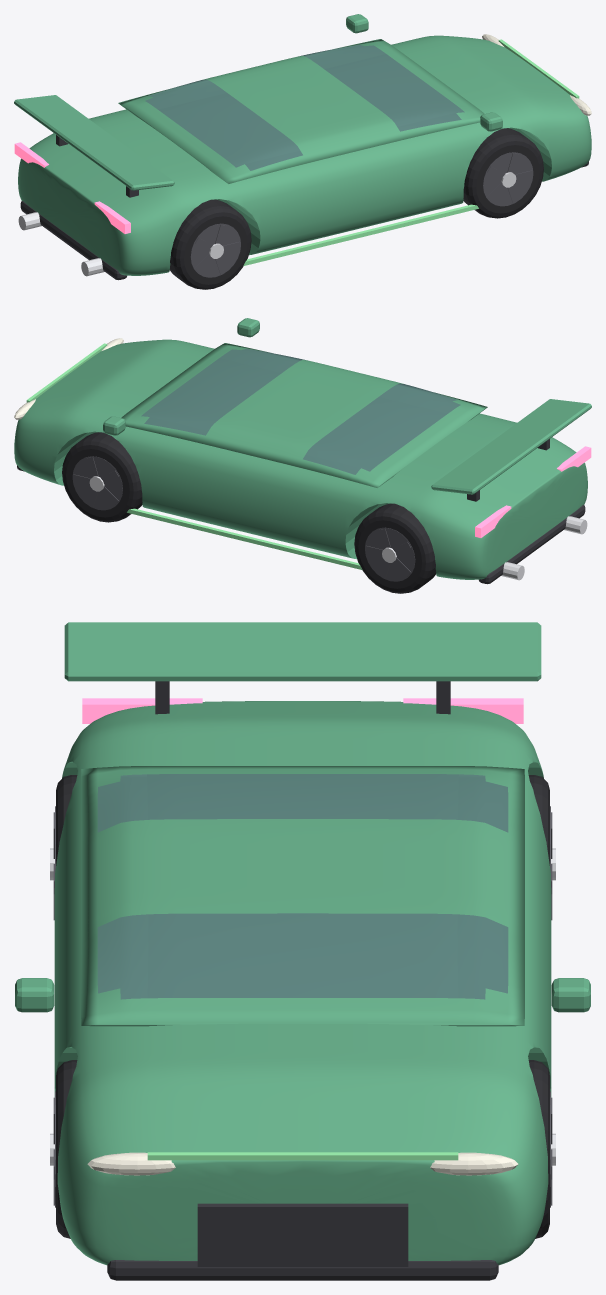
The model's file is apex_predator.fbx.
The picture shows the model from 3 angles, top to bottom: view 1: azimuth 30°, elevation 25°; view 2: azimuth 150°, elevation 25°; view 3: azimuth 270°, elevation 25°; orthographic projection. The views are drawn at different scales.
Visible parts, largest first — view 1: Body.014, Glass.014, Tire.014, Rim.014, Neon.003, Trim.014, Chrome.014, TailLight.014; view 2: Body.014, Glass.014, Tire.014, Rim.014, Neon.003, Trim.014, Chrome.014, TailLight.014; view 3: Body.014, Glass.014, Trim.014, Tire.014, HeadLight.014, Neon.003, TailLight.014, Rim.014.
Boxes of the visible parts, bbox=[...] form: Body.014: bbox=[14, 14, 591, 275]; Glass.014: bbox=[145, 45, 464, 170]; Tire.014: bbox=[170, 128, 543, 289]; Rim.014: bbox=[190, 152, 533, 277]; Neon.003: bbox=[243, 39, 579, 265]; Trim.014: bbox=[20, 135, 588, 280]; Chrome.014: bbox=[18, 172, 516, 276]; TailLight.014: bbox=[14, 142, 130, 233]; Body.014: bbox=[14, 318, 591, 579]; Glass.014: bbox=[141, 349, 460, 474]; Tire.014: bbox=[62, 432, 435, 593]; Rim.014: bbox=[72, 456, 415, 581]; Neon.003: bbox=[26, 343, 362, 569]; Trim.014: bbox=[17, 439, 585, 584]; Chrome.014: bbox=[89, 476, 587, 580]; TailLight.014: bbox=[475, 446, 591, 537]; Body.014: bbox=[15, 622, 590, 1265]; Glass.014: bbox=[97, 774, 508, 999]; Trim.014: bbox=[107, 681, 498, 1280]; Tire.014: bbox=[56, 775, 549, 1238]; HeadLight.014: bbox=[87, 1152, 518, 1175]; Neon.003: bbox=[147, 1152, 458, 1160]; TailLight.014: bbox=[82, 698, 523, 723]; Rim.014: bbox=[53, 806, 552, 1207].
Bounding box in the file's own units: 1581 × 378 × 804.
